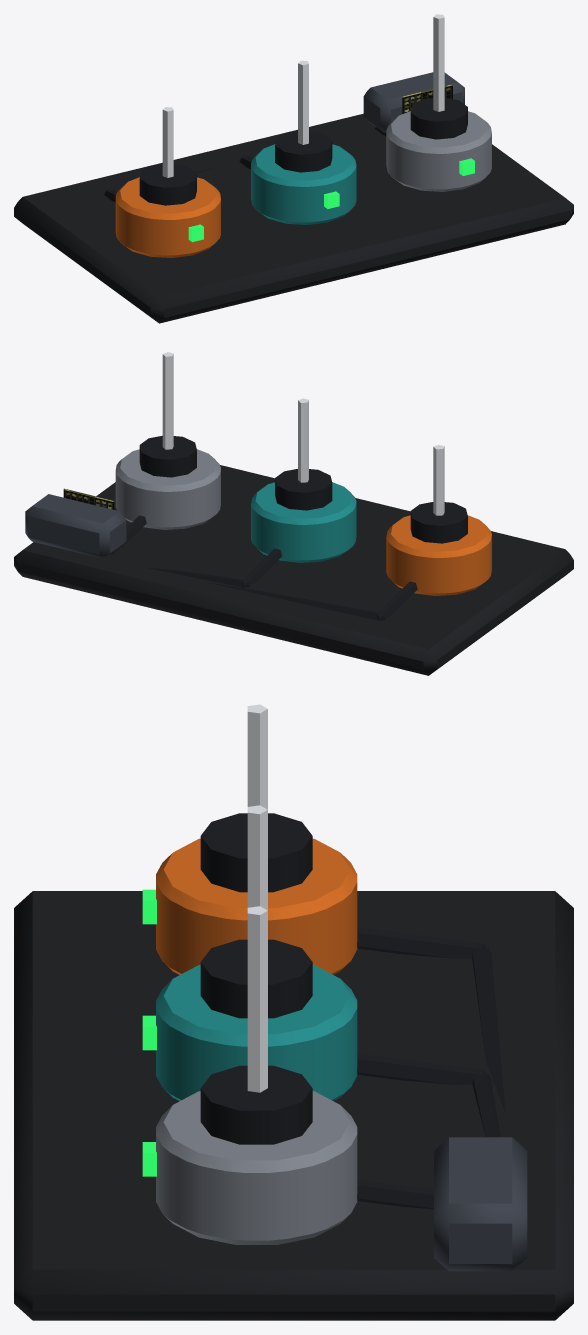
Rendered from sciinstrument_sensor_puck_array.glb.
3 renders of one model, top to bottom at view 1: azimuth 30°, elevation 25°; view 2: azimuth 150°, elevation 25°; view 3: azimuth 270°, elevation 25°, orthographic. The views are drawn at different scales.
Visible parts, largest first — view 1: sciinstrument_sensor_puck_array; view 2: sciinstrument_sensor_puck_array; view 3: sciinstrument_sensor_puck_array.
Boxes of the visible parts, box(x1,y1,x2,y2) form: sciinstrument_sensor_puck_array: box(14, 14, 573, 323); sciinstrument_sensor_puck_array: box(14, 352, 573, 675); sciinstrument_sensor_puck_array: box(14, 704, 573, 1320).
Bounding box in the file's own units: 0.5 × 0.205 × 0.3.
9 materials, 1 textured.
